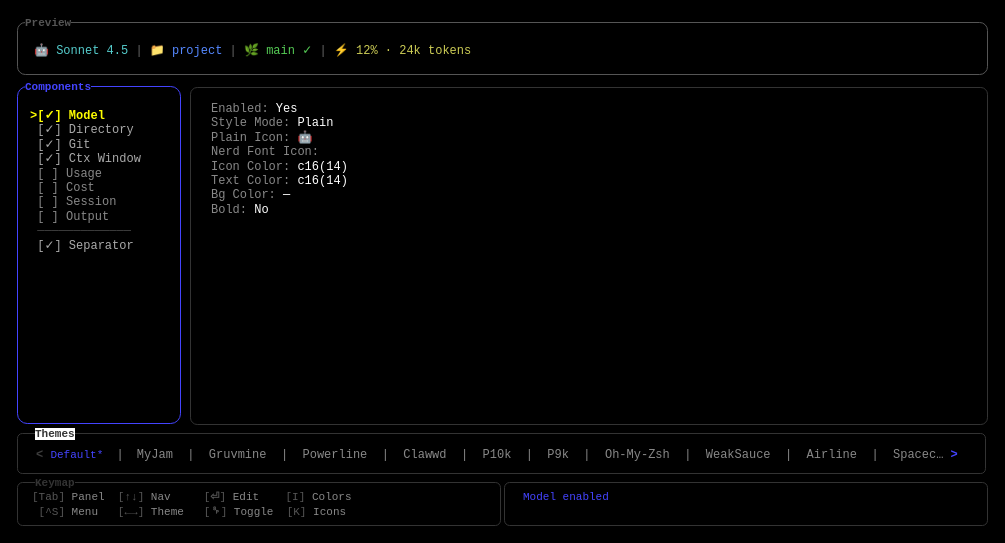
This 1005x543 diagram has some shape labels left out. Each missing label, with the box of its shape:
Model: (190, 86, 988, 424)
Status: (504, 482, 988, 526)
